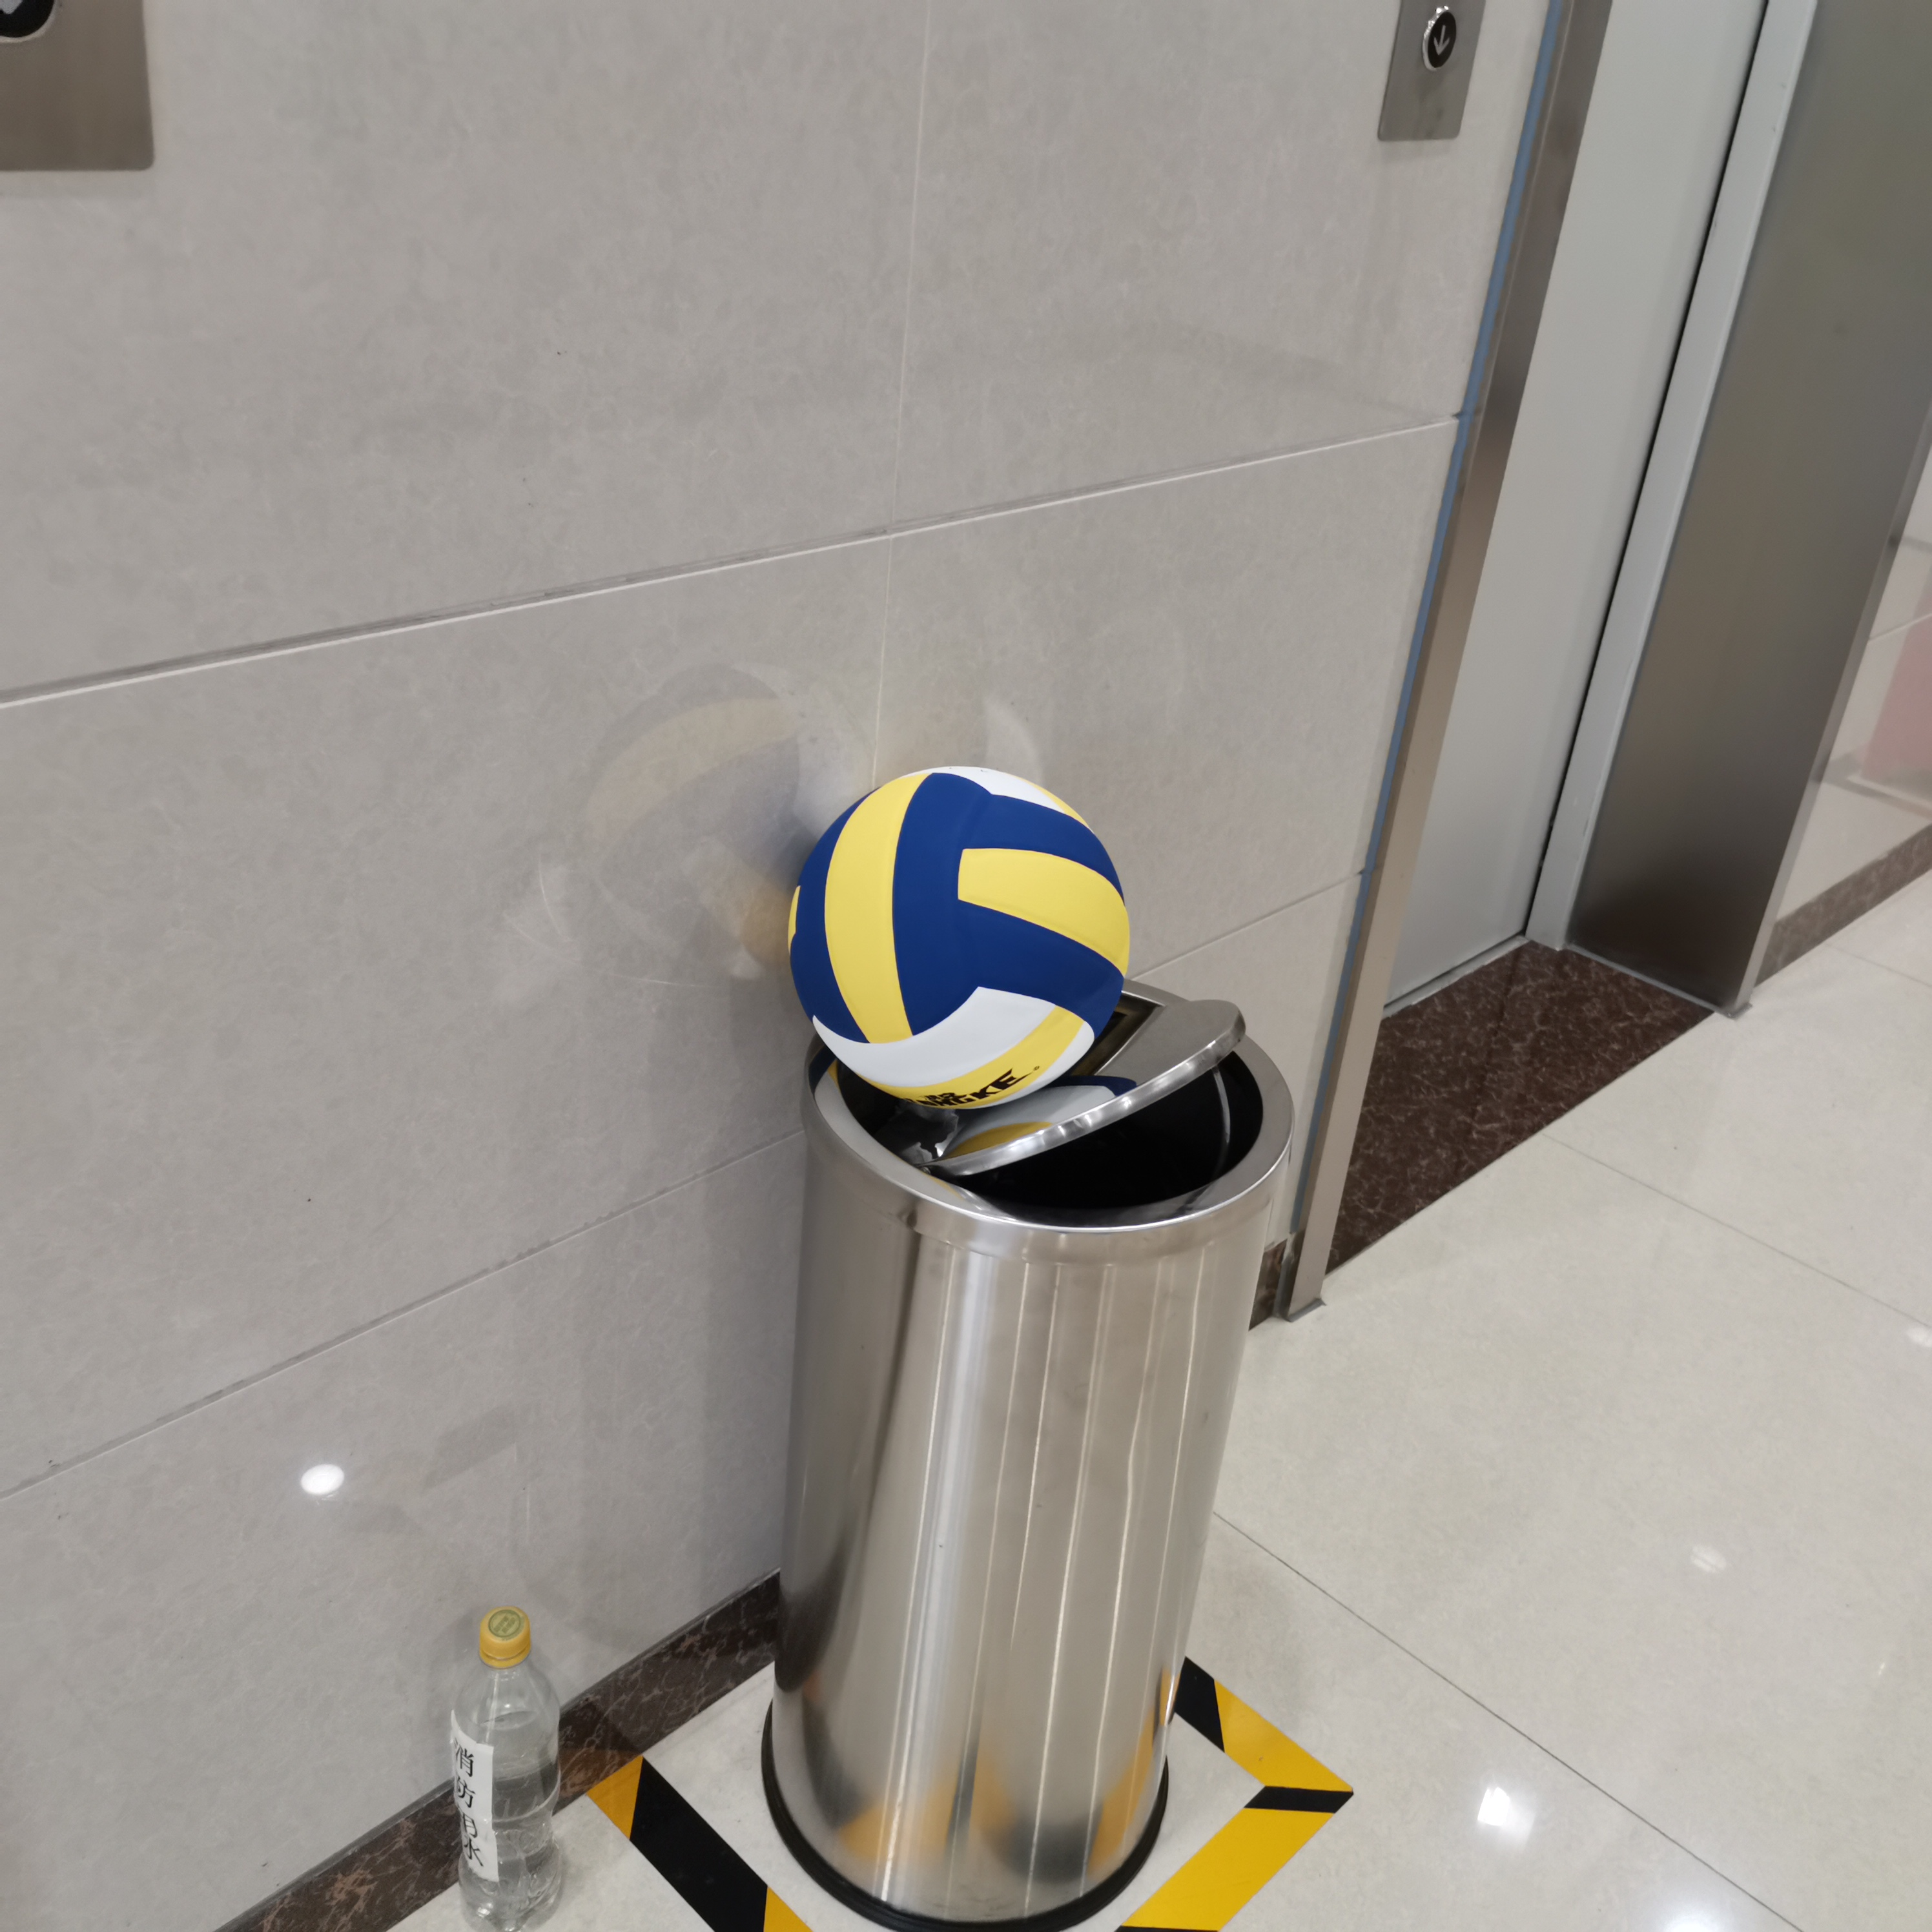volleyball: (787, 764, 1129, 1106)
